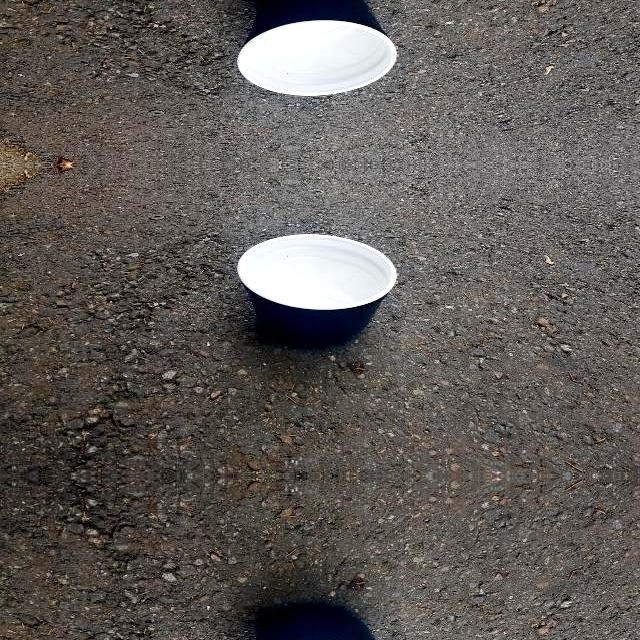Styrofoam: (239, 233, 397, 345), (238, 234, 397, 343), (239, 0, 397, 95), (238, 0, 397, 94), (239, 605, 397, 640), (255, 607, 376, 640)
